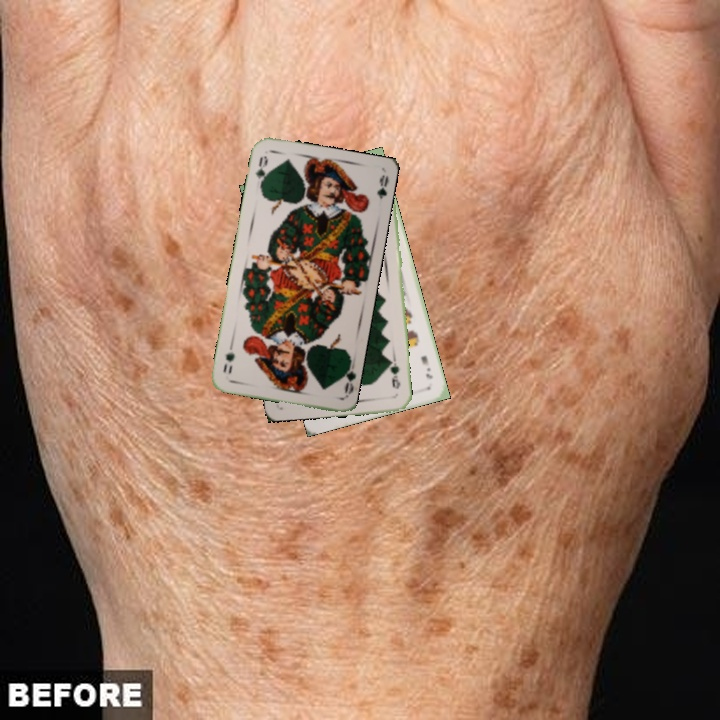E7: (417, 352, 435, 381)
G9: (385, 356, 403, 391)
GO: (336, 357, 358, 398), (251, 151, 271, 191)
